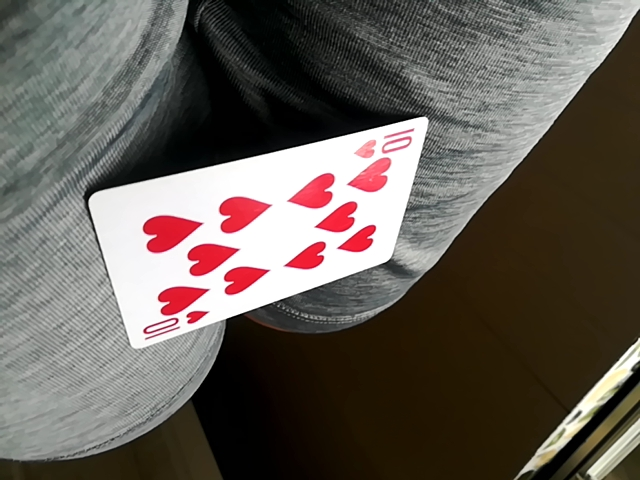hx 10: (91, 122, 427, 344)
